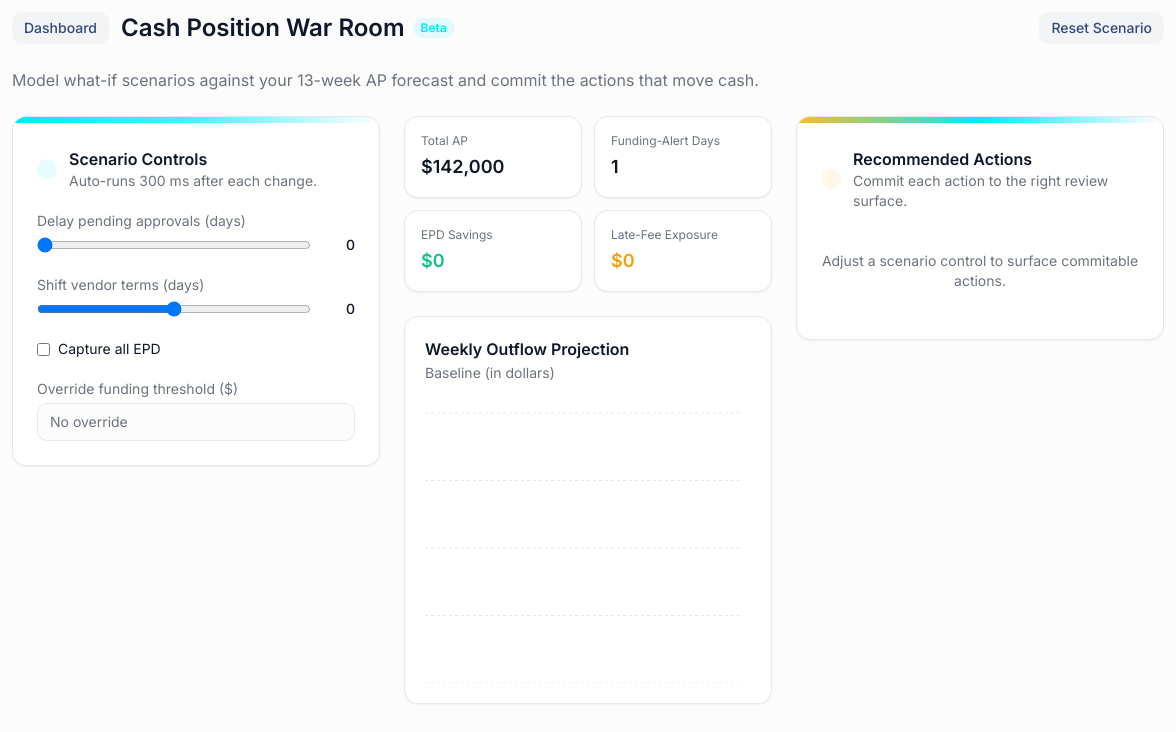
Test: WarRoomPage › Reset Scenario clears controls and removes recommended-action cards
This screenshot has width=1176, height=732.
Expected: the heading "Cash Position War Room" is shown, [121,12,405,44]
Click the checkbox labelled "Capture all EPD": x=44, y=349 [37,342,50,356]
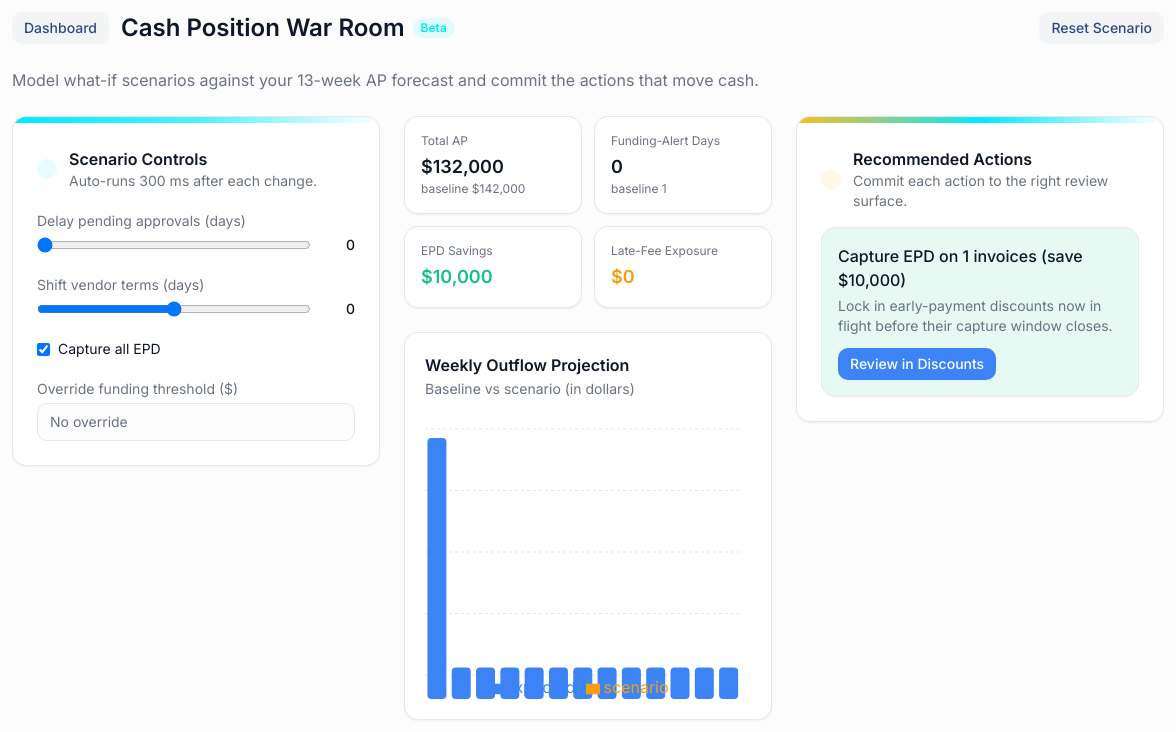
Expected: the button "Review in Discounts" is shown, [838,348,996,380]
Click the button "Reset Scenario": x=1102, y=28 [1039,12,1164,44]
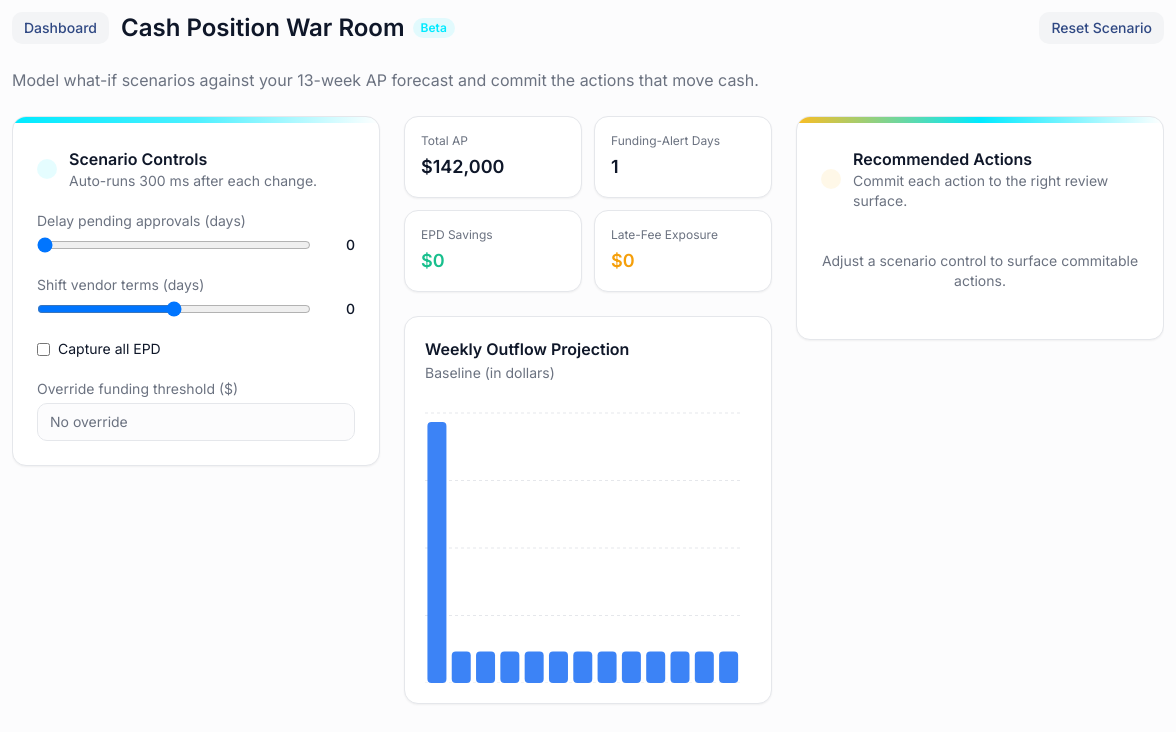
Expected: the button "Review in Discounts" is gone
Expected: the text "Adjust a scenario control to surface commitable actions." is shown, [822,252,1138,289]
